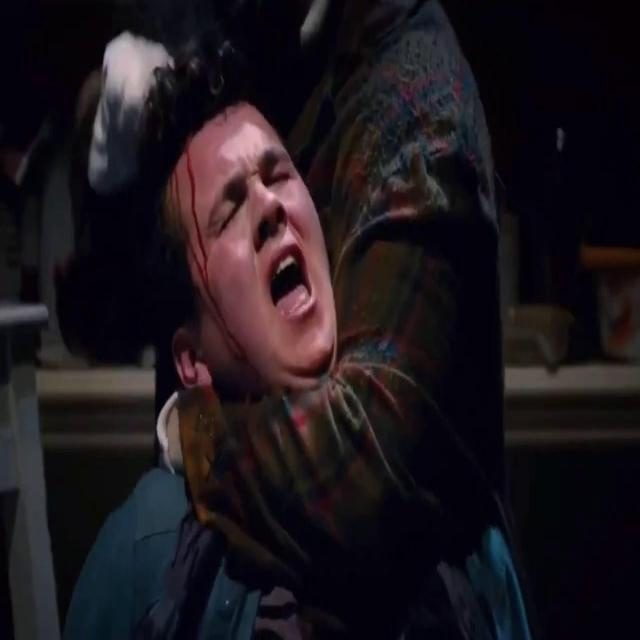flood: (142, 124, 250, 392)
